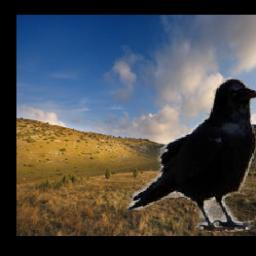Crow: (125, 76, 256, 232)
